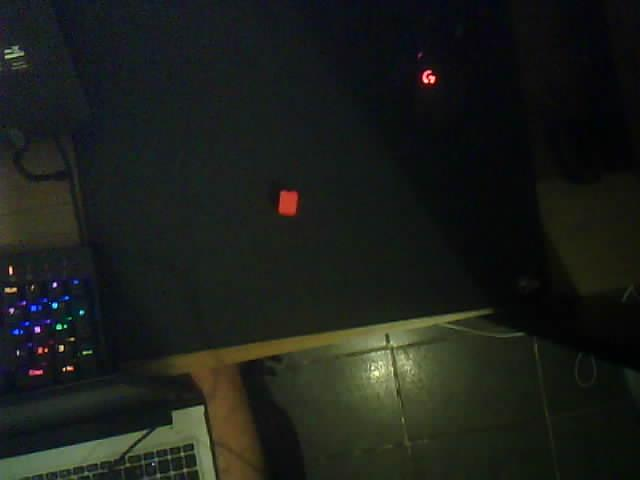lego: (277, 189, 300, 217)
